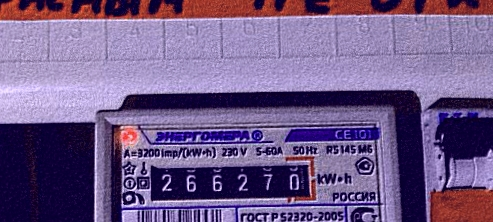0: (287, 171, 301, 192)
2: (160, 172, 173, 193), (237, 172, 250, 193)
6: (185, 172, 197, 194), (211, 173, 224, 192)
7: (263, 172, 273, 191)
screen: (138, 152, 322, 211)
